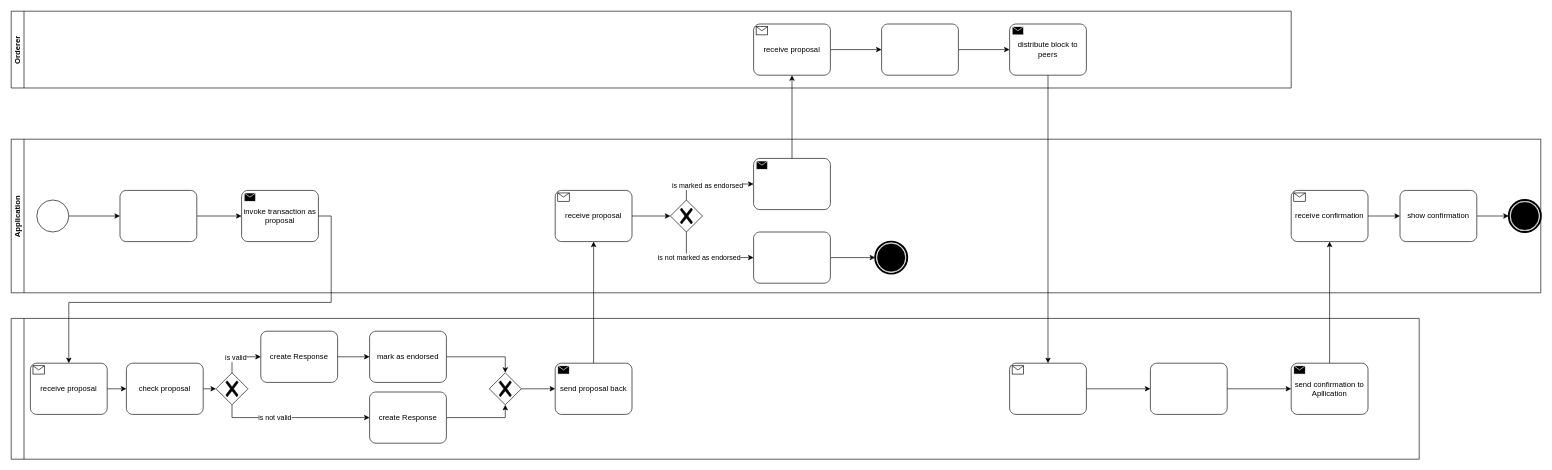
The diagram is 1552 pixels wide and 470 high, and some of its shapes have lost their labels. The shapes that lost their labels are listed below. From the top down, each one's box as (x1, y1, x2, y2) in pixels, then its label:
(881, 23, 958, 75): form block with proposal
(753, 158, 830, 210): send proposal to orderer
(119, 190, 197, 242): create transaction
(753, 231, 830, 283): show Response
(11, 318, 1419, 459): Peer 1
(1009, 363, 1086, 414): receive block
(1150, 363, 1227, 414): add block to ledger
